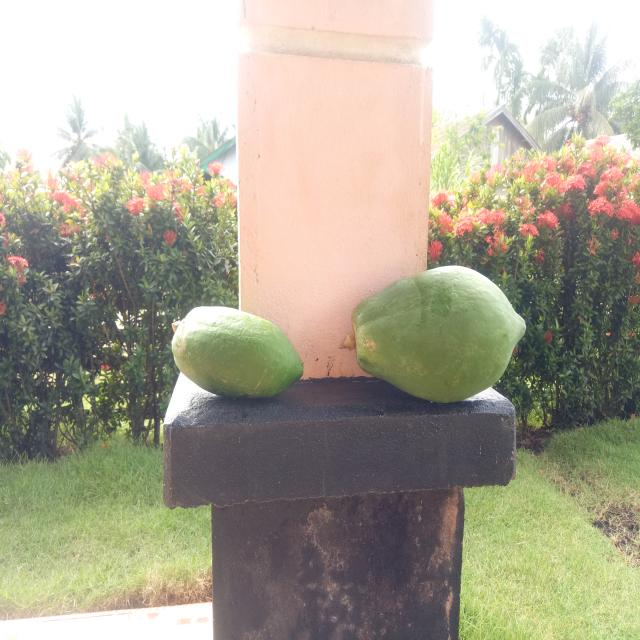Pepaya unrippen: (332, 266, 537, 410), (163, 300, 314, 404)
